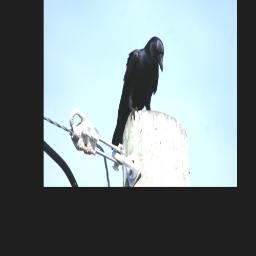Crow: (111, 36, 165, 152)
